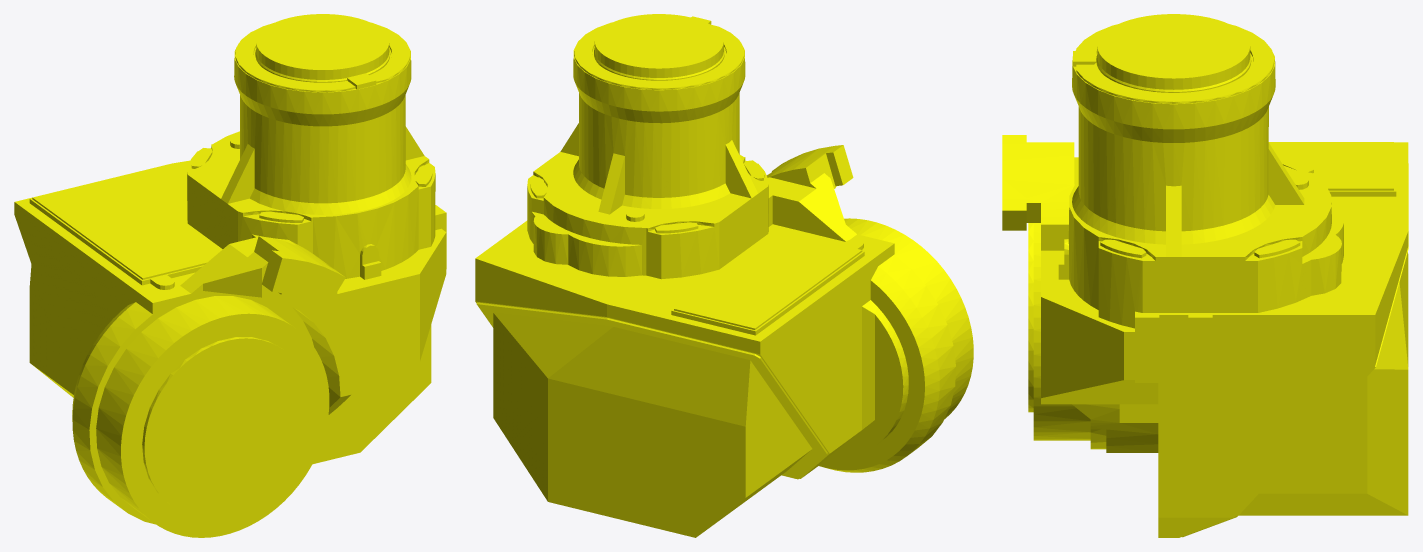
The picture shows the model from 3 angles, left to right: view 1: azimuth 30°, elevation 25°; view 2: azimuth 150°, elevation 25°; view 3: azimuth 270°, elevation 25°; orthographic projection. The views are drawn at different scales.
Parts seen in each view (by area): view 1: node; view 2: node; view 3: node.
Part boxes in pixels (left/top/right/bottom): node: left=14, top=14, right=446, bottom=537; node: left=475, top=14, right=973, bottom=537; node: left=1002, top=14, right=1408, bottom=537.
Size of the model in its own units: 451 by 477 by 367.
